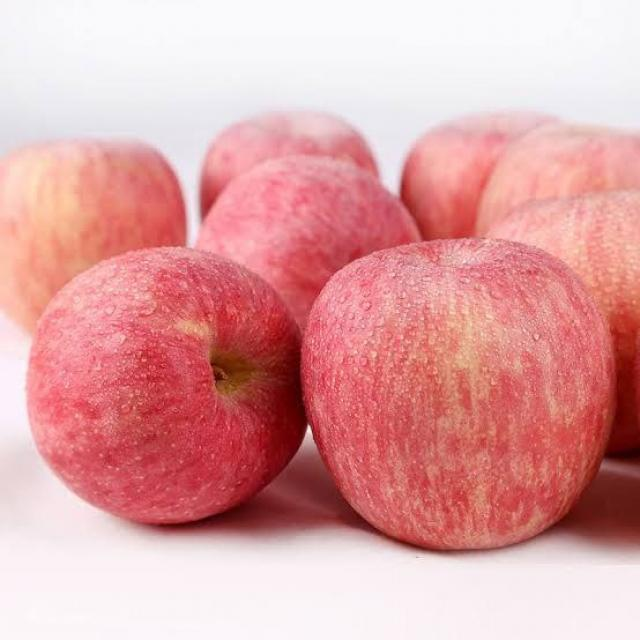Fresh Apple: (306, 242, 602, 560), (28, 245, 302, 527)
